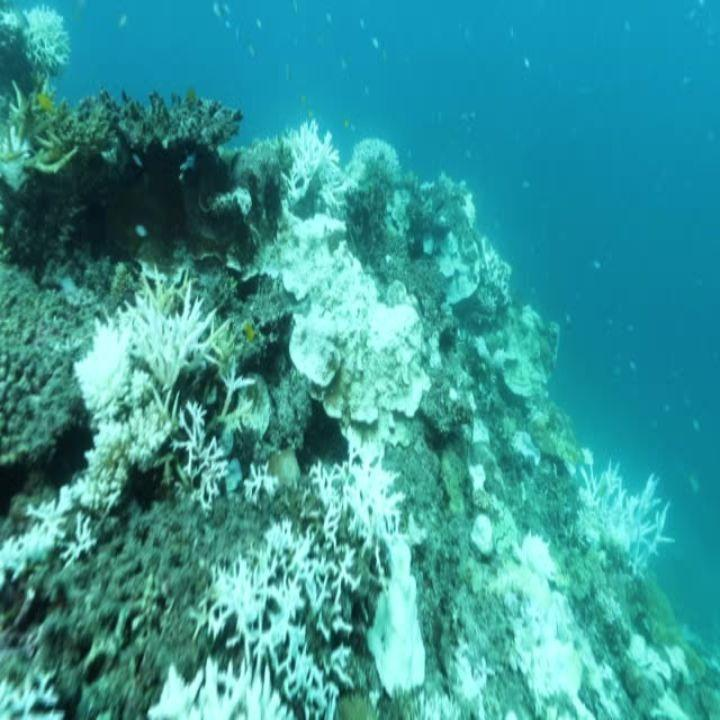Bleached disease: (177, 527, 488, 719), (289, 131, 456, 461), (61, 286, 264, 485)
